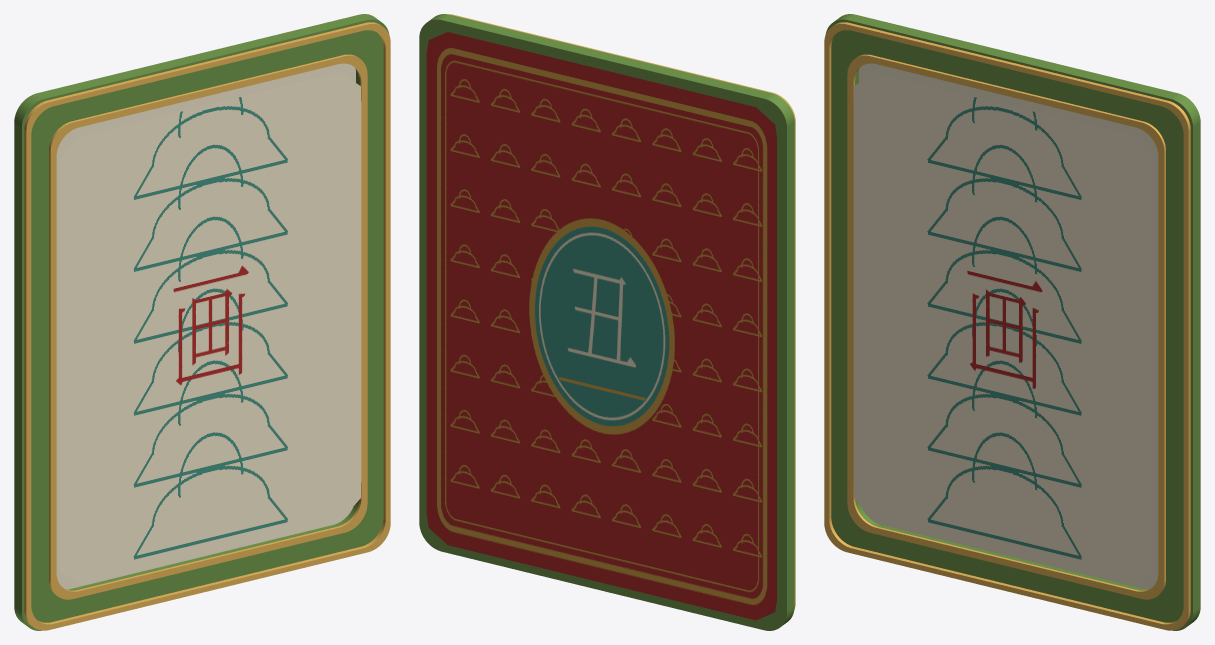
Rendered from joker-frame-common.glb.
3 renders of one model, left to right at view 1: azimuth 30°, elevation 25°; view 2: azimuth 150°, elevation 25°; view 3: azimuth 330°, elevation 25°, orthographic.
Visible parts, largest first — view 1: ReplaceableIllustration, Frame_common; view 2: Frame_common; view 3: ReplaceableIllustration, Frame_common.
Part boxes in pixels (x1=…): ReplaceableIllustration: x1=60, y1=72, x2=361, y2=584; Frame_common: x1=14, y1=14, x2=390, y2=630; Frame_common: x1=419, y1=14, x2=795, y2=630; ReplaceableIllustration: x1=853, y1=72, x2=1154, y2=584; Frame_common: x1=824, y1=14, x2=1200, y2=630.
Bounding box in the file's own units: 2.1 × 2.9 × 0.135.
5 materials, 2 textured.
